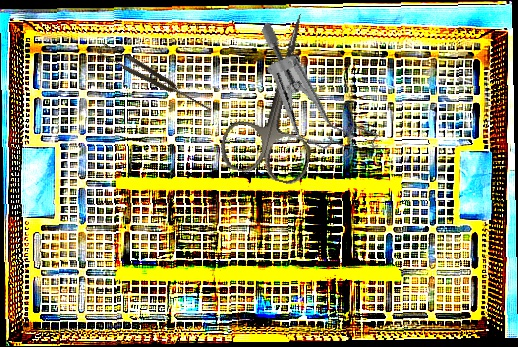Iris Scissors: (215, 3, 346, 188)
Speculum: (224, 19, 407, 175)
Tissue Forceps: (95, 40, 216, 118)
